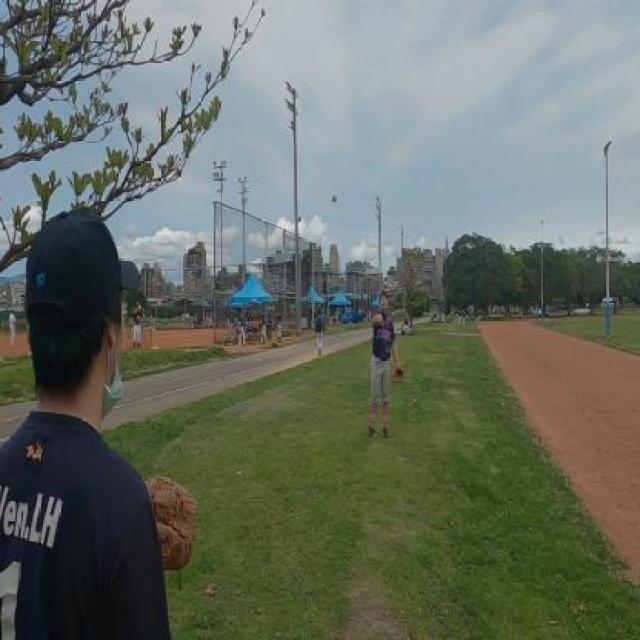baseball: (332, 194, 337, 203)
